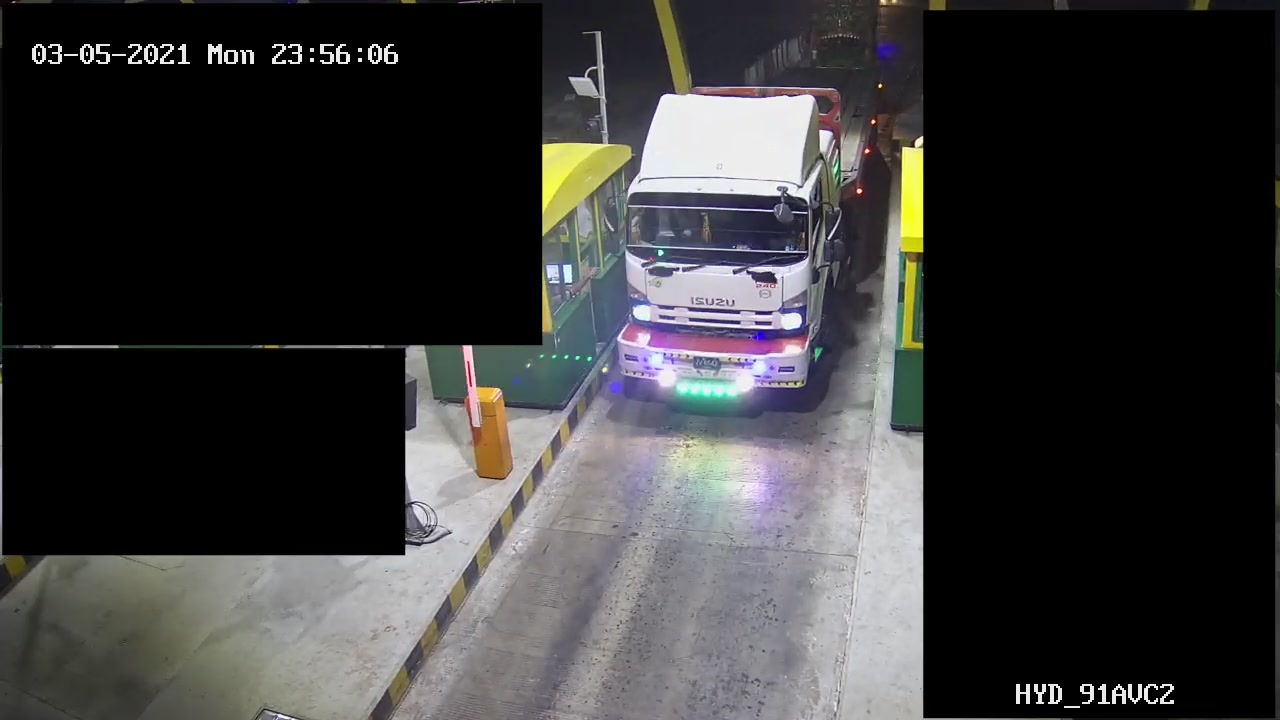F6: (610, 68, 878, 415)
